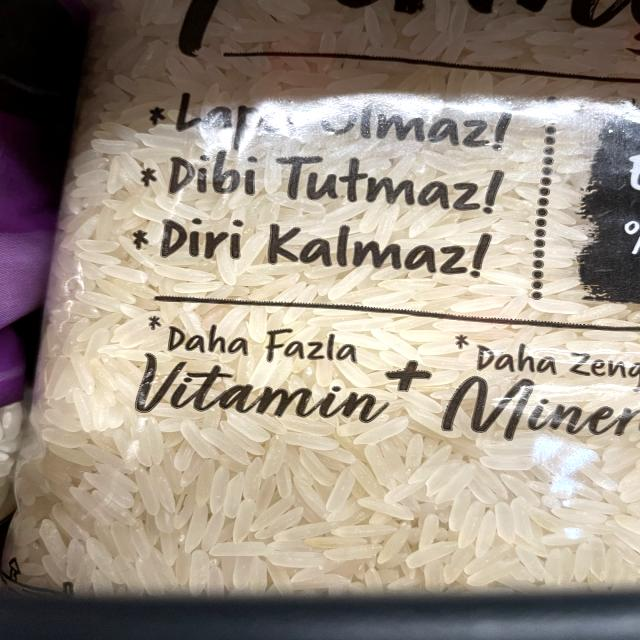rice: (78, 8, 640, 591)
